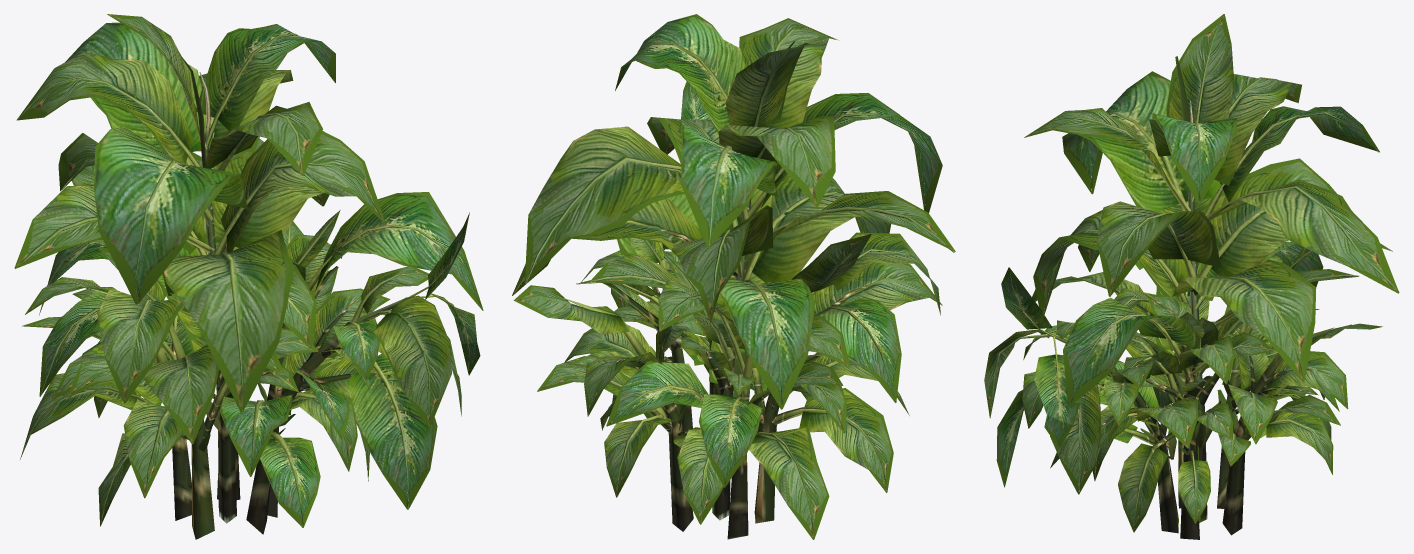
The model's file is sm10_022_plant03a.fbx.
3 renders of one model, left to right at view 1: azimuth 30°, elevation 25°; view 2: azimuth 150°, elevation 25°; view 3: azimuth 270°, elevation 25°, orthographic. The views are drawn at different scales.
Visible parts, largest first — view 1: LOD_1_Group_0_Sub_1__sm10_022_Plant03A_A_Mat__Env_RainLeafEf; view 2: LOD_1_Group_0_Sub_1__sm10_022_Plant03A_A_Mat__Env_RainLeafEf; view 3: LOD_1_Group_0_Sub_1__sm10_022_Plant03A_A_Mat__Env_RainLeafEf.
Boxes of the visible parts, x1=… form: LOD_1_Group_0_Sub_1__sm10_022_Plant03A_A_Mat__Env_RainLeafEf: x1=14, y1=14, x2=483, y2=539; LOD_1_Group_0_Sub_1__sm10_022_Plant03A_A_Mat__Env_RainLeafEf: x1=512, y1=14, x2=955, y2=539; LOD_1_Group_0_Sub_1__sm10_022_Plant03A_A_Mat__Env_RainLeafEf: x1=984, y1=14, x2=1399, y2=539.
Bounding box in the file's own units: 0.9199 × 1.11 × 0.9022.
